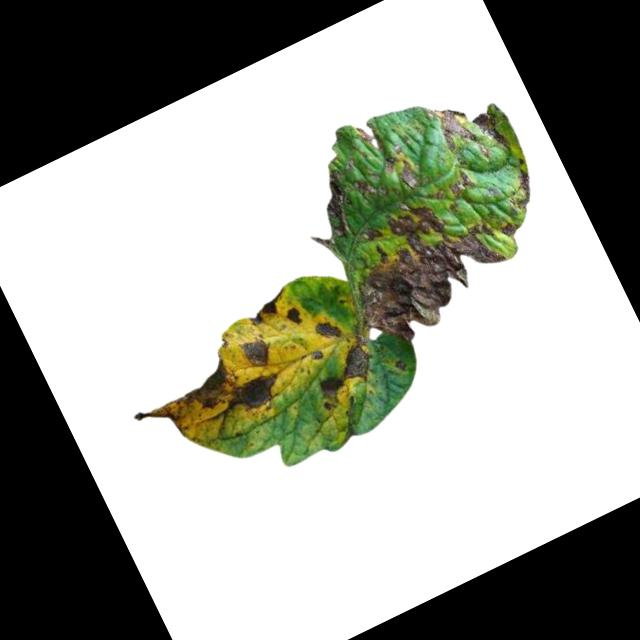Early_blight: (326, 171, 525, 355), (127, 341, 290, 467), (303, 336, 388, 413), (307, 167, 367, 239), (424, 94, 481, 156), (493, 155, 544, 215), (380, 144, 429, 199), (243, 285, 298, 329), (472, 105, 516, 158), (236, 330, 276, 373), (350, 166, 387, 205), (310, 311, 346, 348), (354, 118, 385, 155), (499, 216, 525, 239), (392, 354, 413, 378), (282, 304, 303, 328), (309, 348, 324, 363)
